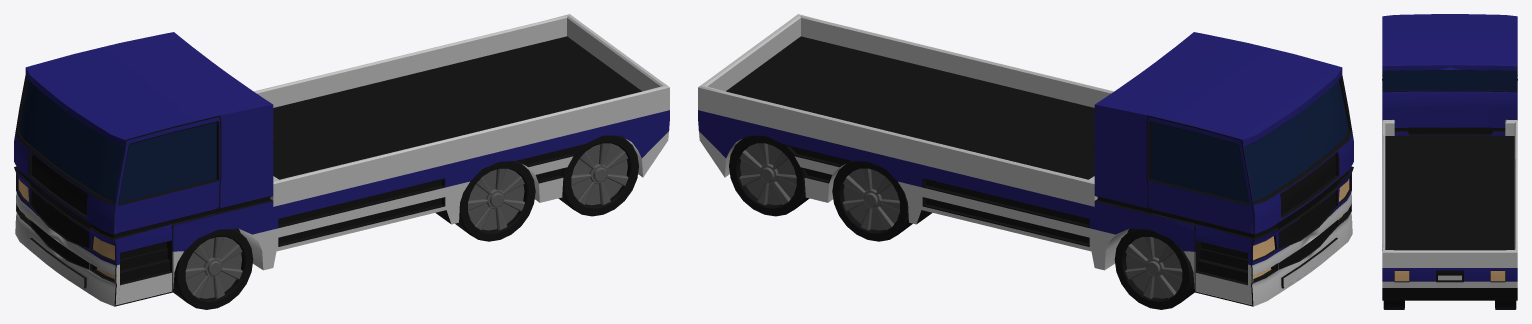
Rendered from fura2.FBX.
3 renders of one model, left to right at view 1: azimuth 30°, elevation 25°; view 2: azimuth 150°, elevation 25°; view 3: azimuth 270°, elevation 25°, orthographic. The views are drawn at different scales.
Visible parts, largest first — view 1: Object003; view 2: Object003; view 3: Object003.
Boxes of the visible parts, x1,y1,x2,y2 form: Object003: (14, 14, 669, 309); Object003: (698, 14, 1353, 309); Object003: (1382, 14, 1517, 309).
Bounding box in the file's own units: 109 × 33.09 × 35.73.
